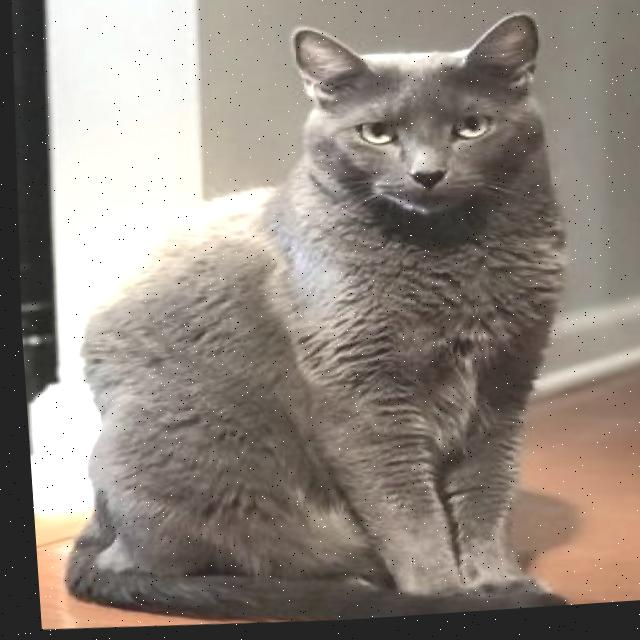Russian Blue: (19, 0, 592, 639)
